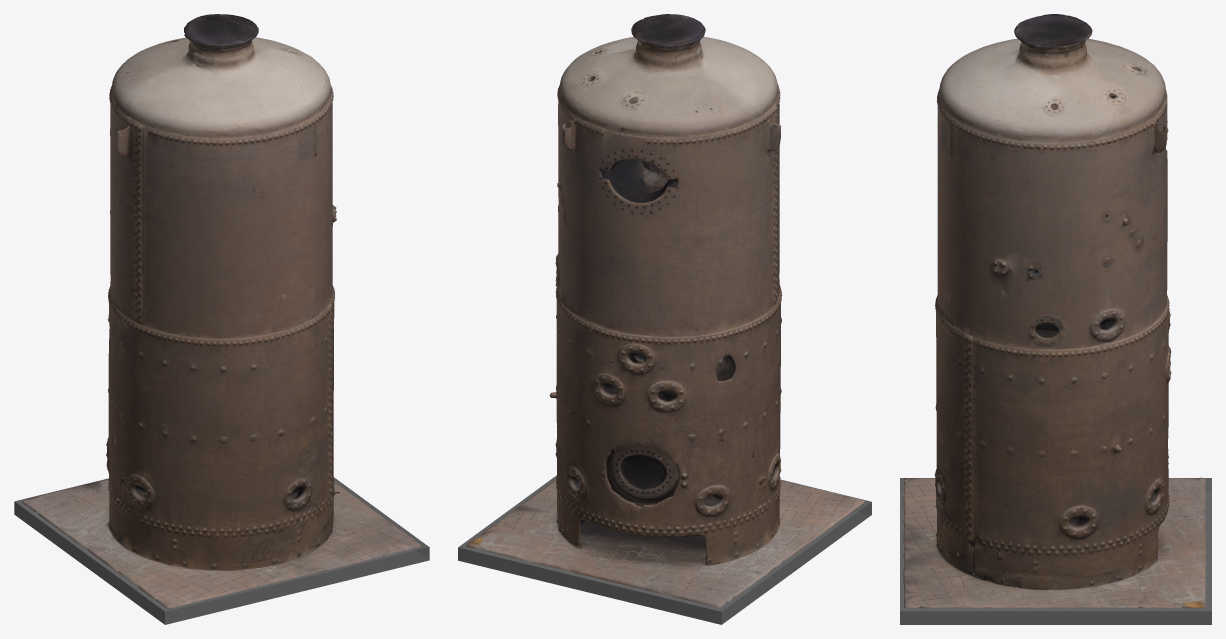
Rendered from Boiler.fbx.
The picture shows the model from 3 angles, left to right: view 1: azimuth 30°, elevation 25°; view 2: azimuth 150°, elevation 25°; view 3: azimuth 270°, elevation 25°; orthographic projection. The views are drawn at different scales.
Visible parts, largest first — view 1: default_Material #21_0.002, default_Material #21_0.003, Box001__0.001; view 2: default_Material #21_0.002, default_Material #21_0.003, Box001__0.001; view 3: default_Material #21_0.002, default_Material #21_0.003, Box001__0.001.
Part boxes in pixels (x1,y1,x2,y2): default_Material #21_0.002: (22, 14, 421, 608); default_Material #21_0.003: (106, 14, 339, 567); Box001__0.001: (14, 477, 429, 624); default_Material #21_0.002: (466, 14, 865, 608); default_Material #21_0.003: (549, 14, 782, 558); Box001__0.001: (458, 475, 871, 624); default_Material #21_0.002: (903, 14, 1205, 608); default_Material #21_0.003: (934, 16, 1171, 583); Box001__0.001: (900, 478, 1211, 624).
Bounding box in the file's own units: 260 × 479 × 257.
